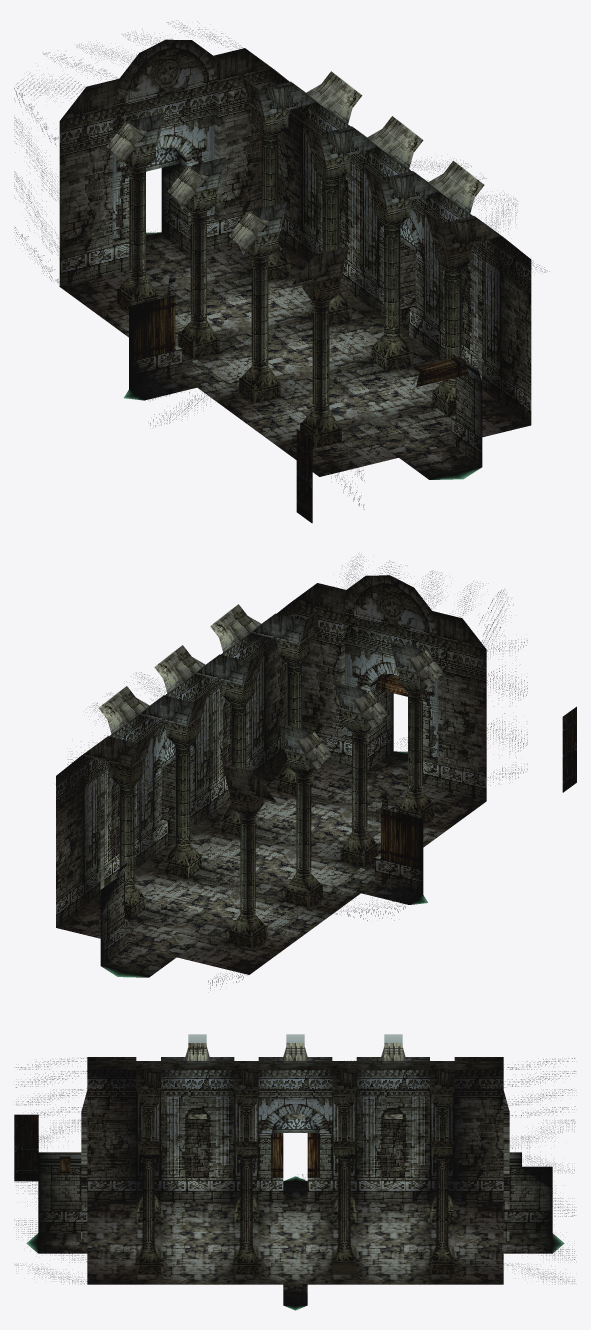
Rendered from MAP048.gltf.
3 views of the same model, one above another, from view 1: azimuth 30°, elevation 25°; view 2: azimuth 150°, elevation 25°; view 3: azimuth 270°, elevation 25° (orthographic). The views are drawn at different scales.
Size of the model in its own units: 179 by 102 by 294.
57 materials, 57 textured.
